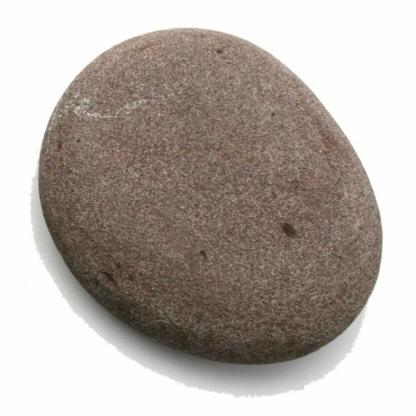Sedimentary_Sandstone: (26, 20, 383, 368)
